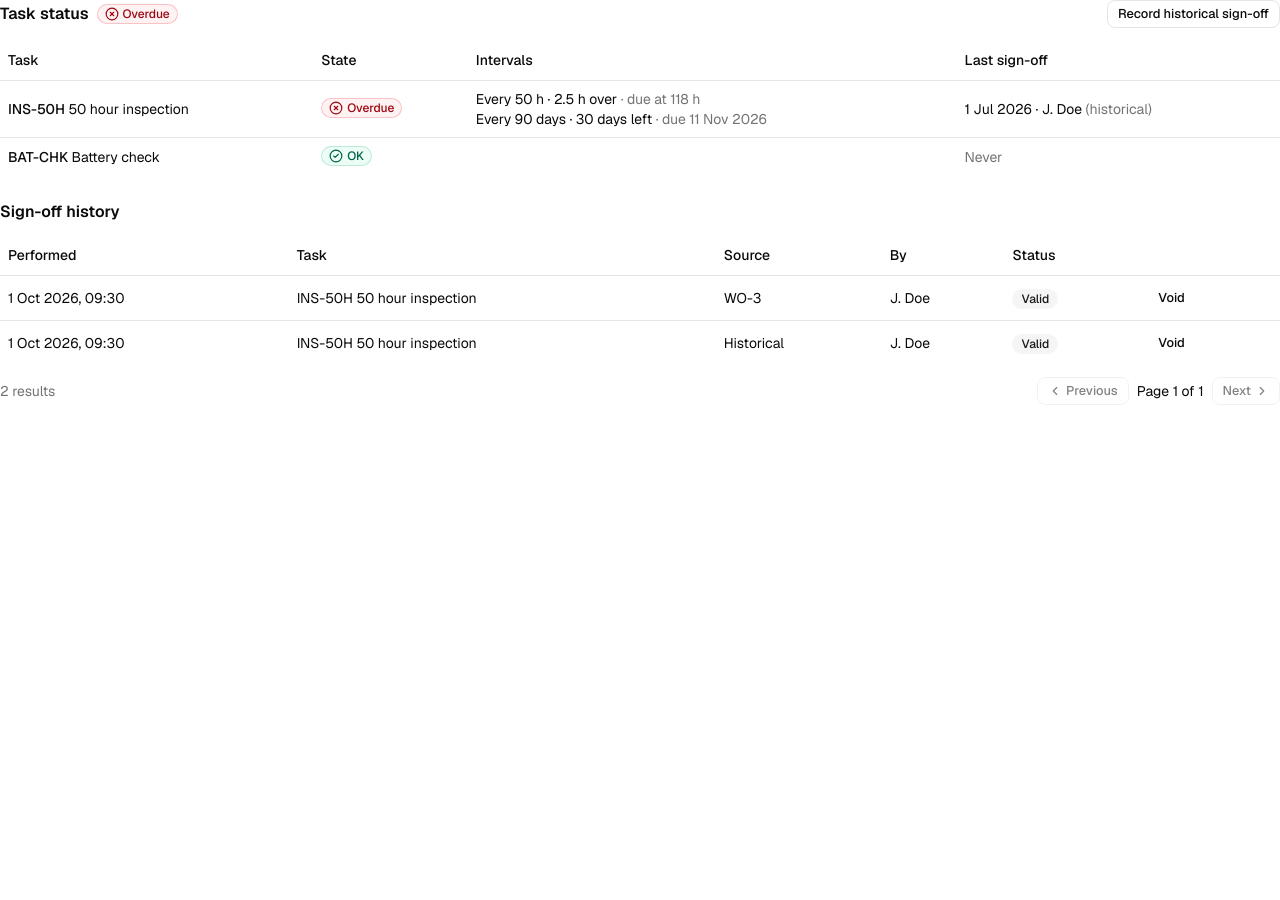
Test: AircraftMaintenance › historical sign-off › validates required fields before submitting
Click the button "Record historical sign-off": {"x": 1194, "y": 14} left=1107, top=0, right=1279, bottom=28
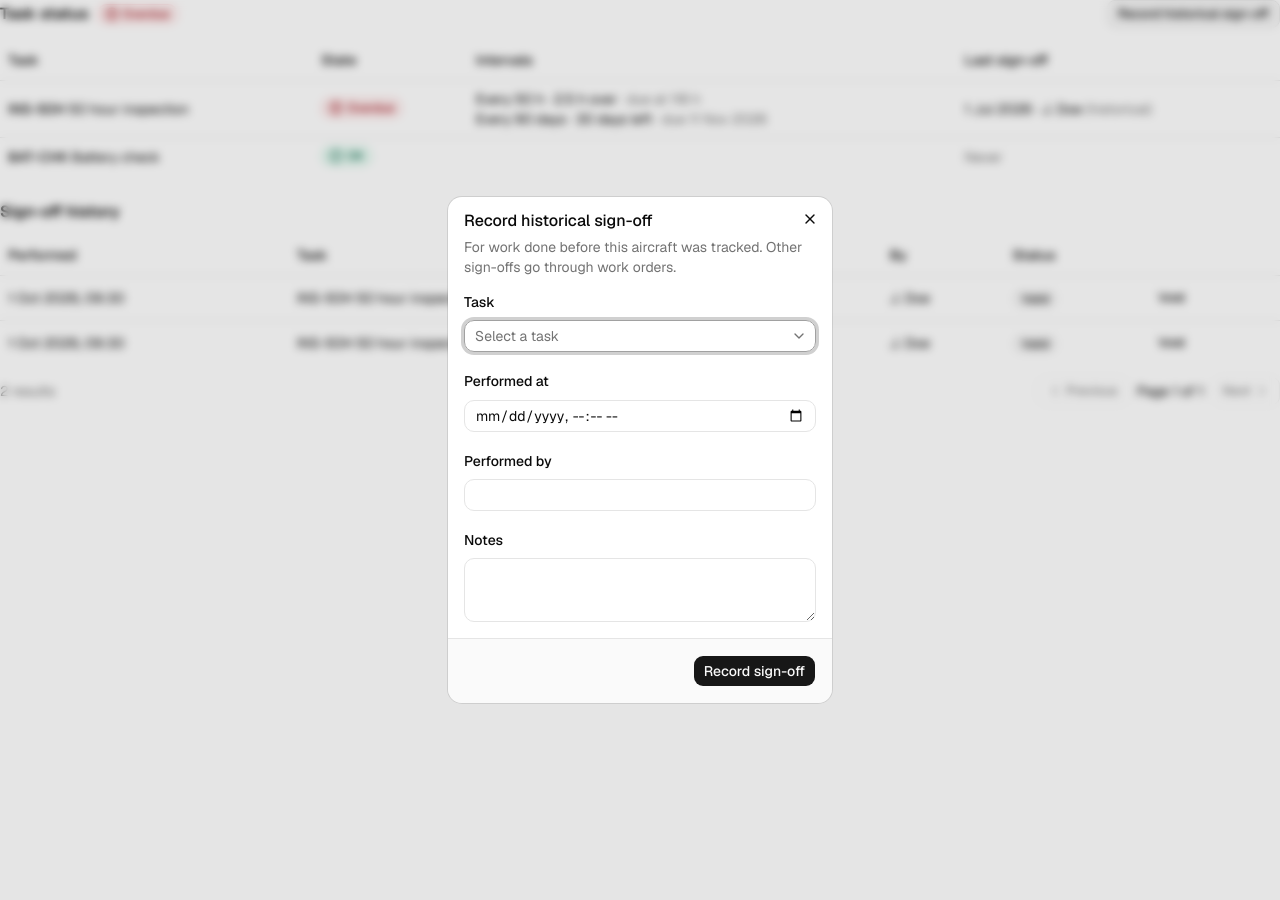
Click the button "Record sign-off": {"x": 754, "y": 671} left=693, top=655, right=816, bottom=687
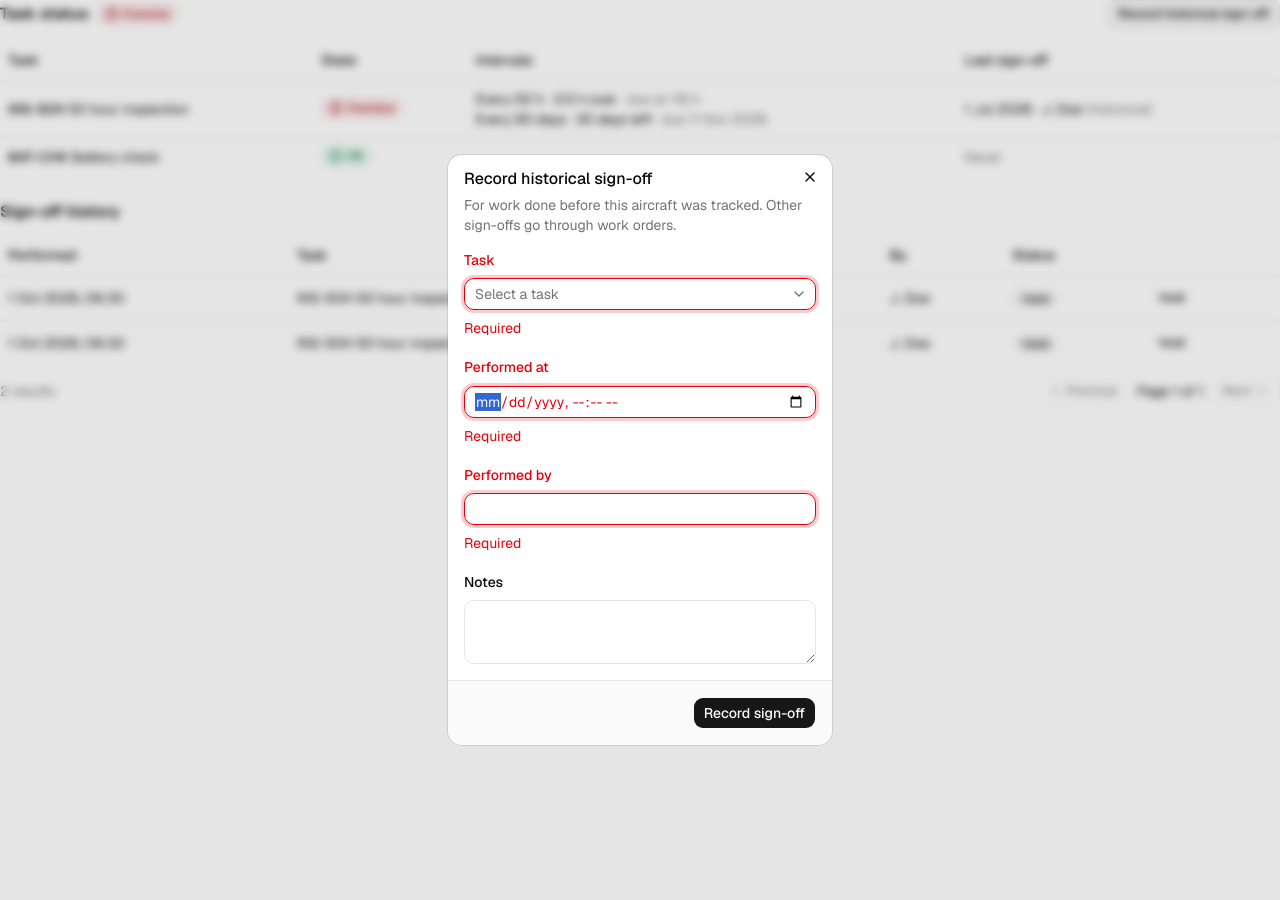
Expected: the text "Required" is shown 3 times, left=464, top=319, right=521, bottom=337; left=464, top=426, right=521, bottom=444; left=464, top=534, right=521, bottom=552
